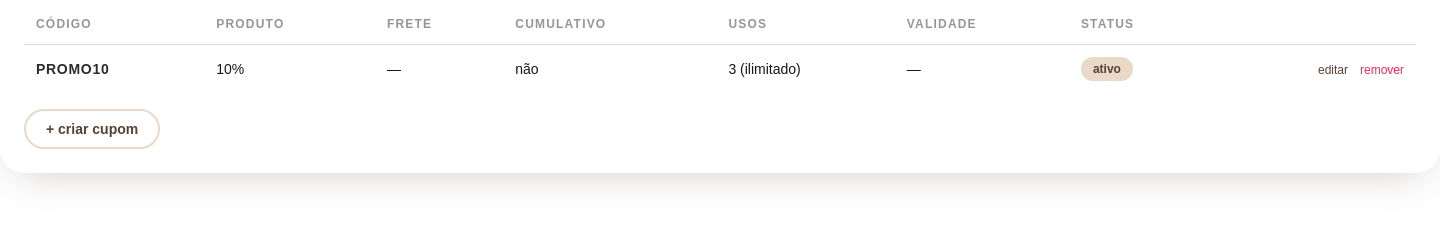
Test: CuponsManager — remover › mostra erro quando a remoção falha
This screenshot has width=1440, height=242.
Click the button "remover": x=1382, y=70 left=1360, top=62, right=1404, bottom=78
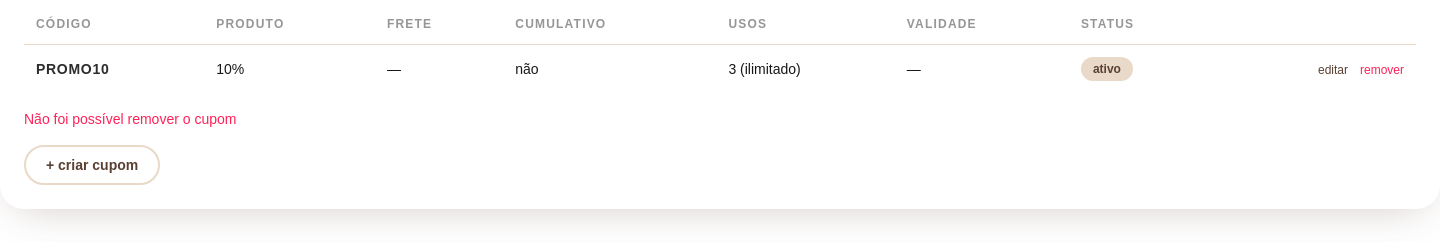
Check: the text "Não foi possível remover o cupom" is shown, box left=24, top=111, right=236, bottom=127
